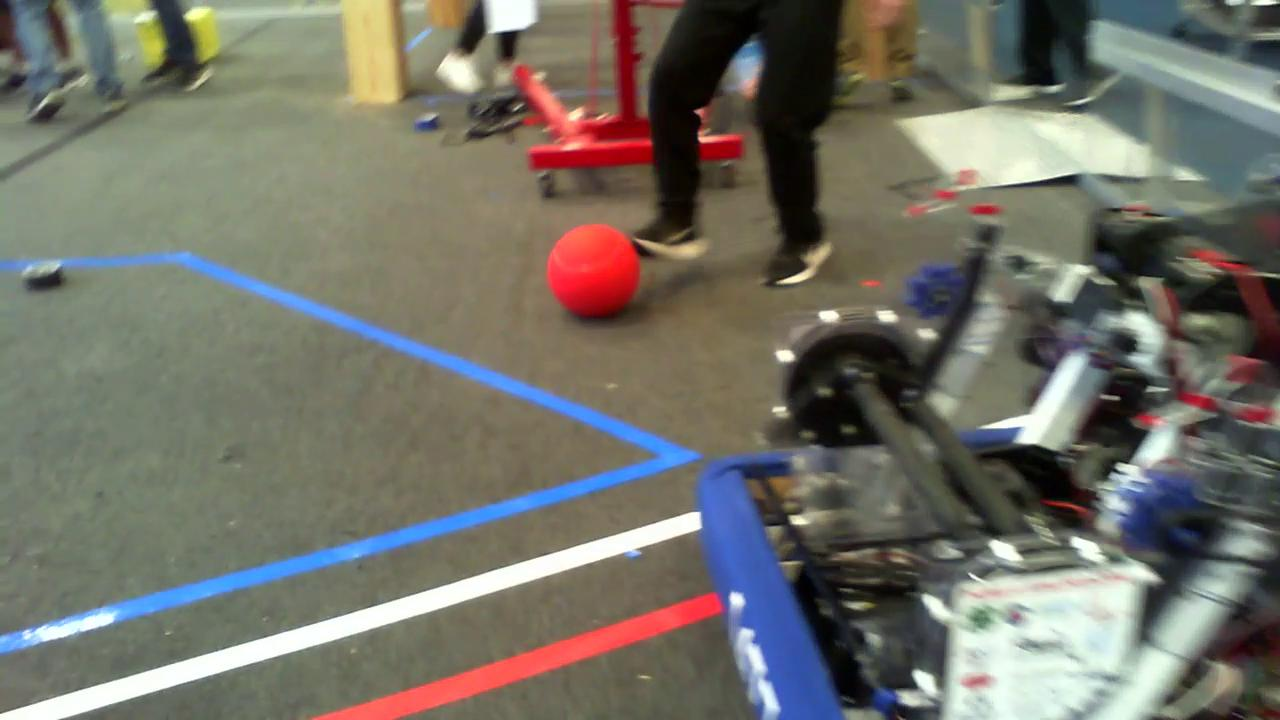Red_Ball: (531, 227, 662, 324)
